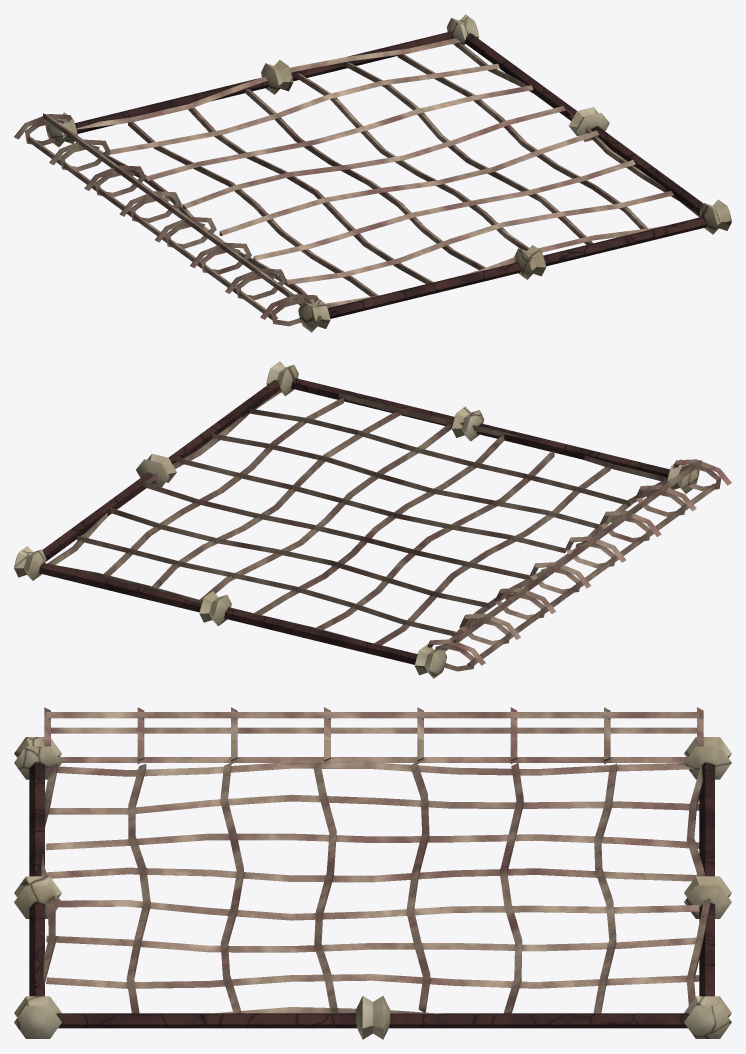
File: red_captura.fbx
The picture shows the model from 3 angles, top to bottom: view 1: azimuth 30°, elevation 25°; view 2: azimuth 150°, elevation 25°; view 3: azimuth 270°, elevation 25°; orthographic projection. The views are drawn at different scales.
Parts seen in each view (by area): view 1: red; view 2: red; view 3: red.
Part boxes in pixels (x1,y1,x2,y2): red: [14, 14, 731, 332]; red: [14, 361, 731, 678]; red: [14, 707, 731, 1039].
Size of the model in its own units: 4 by 0.3 by 4.
1 material, 1 textured.
